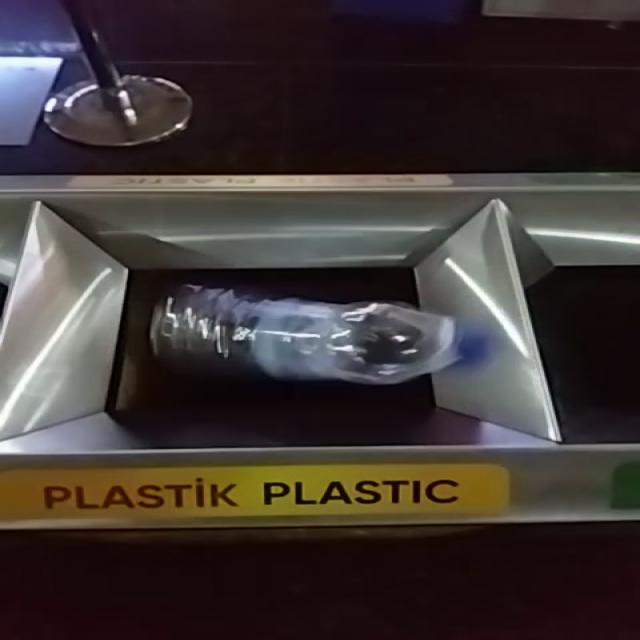plastic: (149, 285, 464, 385), (149, 285, 457, 385)
